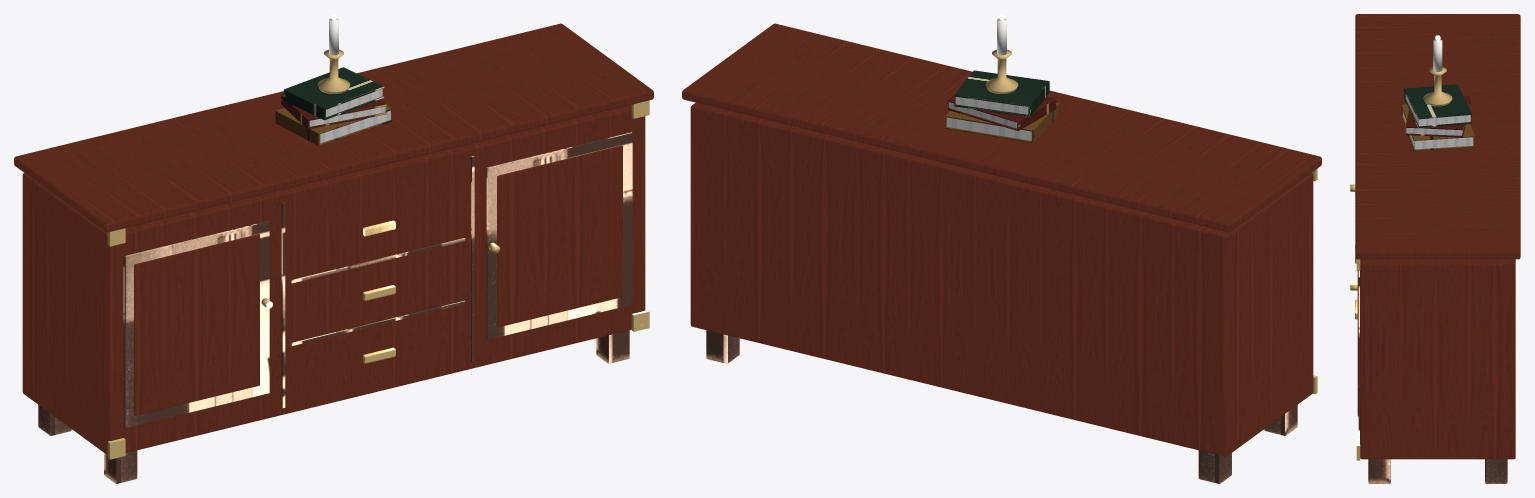
Rendered from liv-sideboard.glb.
The picture shows the model from 3 angles, left to right: view 1: azimuth 30°, elevation 25°; view 2: azimuth 150°, elevation 25°; view 3: azimuth 270°, elevation 25°; orthographic projection. The views are drawn at different scales.
Visible parts, largest first — view 1: LM_Sideboard, Book.007, Book.005, Book.006, Candlestick; view 2: LM_Sideboard, Book.007, Book.005, Book.006, Candlestick; view 3: LM_Sideboard, Book.007, Book.005, Book.006, Candlestick, Candle.
Part boxes in pixels (bbox=[...]): LM_Sideboard: bbox=[14, 23, 653, 483]; Book.007: bbox=[283, 67, 384, 120]; Book.005: bbox=[275, 106, 392, 146]; Book.006: bbox=[280, 94, 387, 129]; Candlestick: bbox=[317, 49, 350, 93]; LM_Sideboard: bbox=[682, 23, 1321, 483]; Book.007: bbox=[954, 70, 1049, 116]; Book.005: bbox=[945, 103, 1058, 143]; Book.006: bbox=[947, 96, 1056, 130]; Candlestick: bbox=[985, 49, 1018, 93]; LM_Sideboard: bbox=[1350, 14, 1520, 483]; Book.007: bbox=[1404, 84, 1471, 128]; Book.005: bbox=[1401, 104, 1474, 151]; Book.006: bbox=[1405, 96, 1470, 137]; Candlestick: bbox=[1423, 67, 1452, 106]; Candle: bbox=[1433, 39, 1442, 71].
Bounding box in the file's own units: 1.74 × 1.15 × 0.525.
10 materials, 5 textured.
